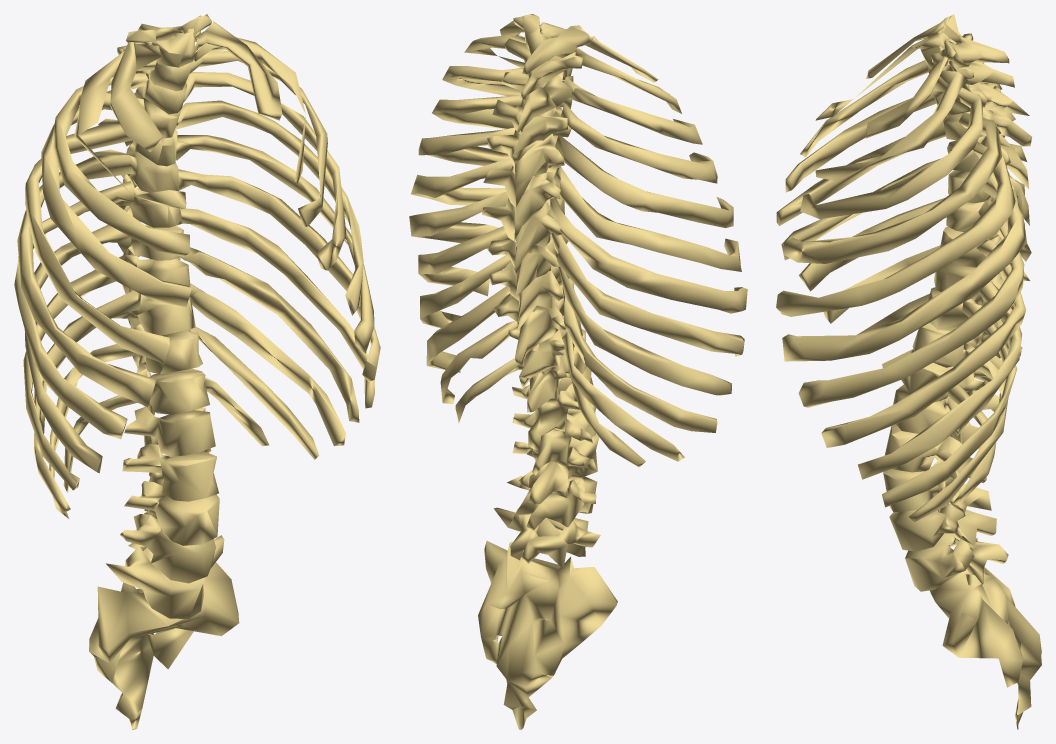
File: spine-trunk-QSAWFNBA.glb
3 views of the same model, side by side, from view 1: azimuth 30°, elevation 25°; view 2: azimuth 150°, elevation 25°; view 3: azimuth 270°, elevation 25° (orthographic). The views are drawn at different scales.
Visible parts, largest first — view 1: spine-trunk:sacrum:isa:FJ3393, spine-trunk:sixth-rib:isa:FJ3344, spine-trunk:fifth-rib:isa:FJ3342, spine-trunk:fourth-rib:isa:FJ3340, spine-trunk:third-rib:isa:FJ3338, spine-trunk:eighth-rib:isa:FJ3235, spine-trunk:seventh-rib:isa:FJ3346, spine-trunk:ninth-rib:isa:FJ3236, spine-trunk:seventh-rib:isa:FJ3234, spine-trunk:fifth-rib:isa:FJ3232, spine-trunk:tenth-rib:isa:FJ3225, spine-trunk:sixth-rib:isa:FJ3233 (+30 smaller); view 2: spine-trunk:sacrum:isa:FJ3393, spine-trunk:seventh-rib:isa:FJ3346, spine-trunk:eighth-rib:isa:FJ3347, spine-trunk:sixth-rib:isa:FJ3344, spine-trunk:fifth-rib:isa:FJ3342, spine-trunk:ninth-rib:isa:FJ3348, spine-trunk:tenth-rib:isa:FJ3330, spine-trunk:fifth-lumbar-vertebra:isa:FJ3168, spine-trunk:fourth-rib:isa:FJ3340, spine-trunk:third-lumbar-vertebra:isa:FJ3162, spine-trunk:fourth-lumbar-vertebra:isa:FJ3165, spine-trunk:seventh-rib:isa:FJ3234 (+29 smaller); view 3: spine-trunk:sacrum:isa:FJ3393, spine-trunk:sixth-rib:isa:FJ3233, spine-trunk:fifth-rib:isa:FJ3232, spine-trunk:seventh-rib:isa:FJ3234, spine-trunk:fourth-rib:isa:FJ3231, spine-trunk:eighth-rib:isa:FJ3235, spine-trunk:third-rib:isa:FJ3230, spine-trunk:ninth-rib:isa:FJ3236, spine-trunk:fifth-lumbar-vertebra:isa:FJ3168, spine-trunk:fourth-lumbar-vertebra:isa:FJ3165, spine-trunk:tenth-rib:isa:FJ3225, spine-trunk:second-rib:isa:FJ3229 (+27 smaller).
Part boxes in pixels (box(x1,y1,x2,y2)): spine-trunk:sacrum:isa:FJ3393: box(89, 562, 239, 729); spine-trunk:sixth-rib:isa:FJ3344: box(17, 155, 155, 406); spine-trunk:fifth-rib:isa:FJ3342: box(25, 124, 169, 363); spine-trunk:fourth-rib:isa:FJ3340: box(41, 93, 191, 306); spine-trunk:third-rib:isa:FJ3338: box(51, 73, 189, 256); spine-trunk:eighth-rib:isa:FJ3235: box(177, 208, 374, 408); spine-trunk:seventh-rib:isa:FJ3346: box(14, 181, 134, 439); spine-trunk:ninth-rib:isa:FJ3236: box(181, 247, 359, 422); spine-trunk:seventh-rib:isa:FJ3234: box(178, 169, 380, 381); spine-trunk:fifth-rib:isa:FJ3232: box(175, 100, 363, 315); spine-trunk:tenth-rib:isa:FJ3225: box(189, 283, 345, 446); spine-trunk:sixth-rib:isa:FJ3233: box(176, 135, 374, 353); spine-trunk:sacrum:isa:FJ3393: box(478, 541, 617, 729); spine-trunk:seventh-rib:isa:FJ3346: box(550, 198, 747, 313); spine-trunk:eighth-rib:isa:FJ3347: box(551, 233, 744, 356); spine-trunk:sixth-rib:isa:FJ3344: box(553, 167, 741, 271); spine-trunk:fifth-rib:isa:FJ3342: box(555, 134, 733, 227); spine-trunk:ninth-rib:isa:FJ3348: box(558, 267, 731, 395); spine-trunk:tenth-rib:isa:FJ3330: box(562, 287, 717, 432); spine-trunk:fifth-lumbar-vertebra:isa:FJ3168: box(493, 507, 600, 568); spine-trunk:fourth-rib:isa:FJ3340: box(560, 103, 717, 183); spine-trunk:third-lumbar-vertebra:isa:FJ3162: box(512, 434, 599, 503); spine-trunk:fourth-lumbar-vertebra:isa:FJ3165: box(507, 470, 597, 530); spine-trunk:seventh-rib:isa:FJ3234: box(409, 191, 508, 254); spine-trunk:sacrum:isa:FJ3393: box(929, 537, 1041, 729); spine-trunk:sixth-rib:isa:FJ3233: box(782, 176, 1026, 361); spine-trunk:fifth-rib:isa:FJ3232: box(776, 141, 1015, 316); spine-trunk:seventh-rib:isa:FJ3234: box(798, 200, 1024, 407); spine-trunk:fourth-rib:isa:FJ3231: box(783, 112, 1001, 263); spine-trunk:eighth-rib:isa:FJ3235: box(821, 240, 1025, 447); spine-trunk:third-rib:isa:FJ3230: box(800, 87, 982, 219); spine-trunk:ninth-rib:isa:FJ3236: box(858, 281, 1022, 479); spine-trunk:fifth-lumbar-vertebra:isa:FJ3168: box(905, 533, 1008, 591); spine-trunk:fourth-lumbar-vertebra:isa:FJ3165: box(889, 504, 996, 551); spine-trunk:tenth-rib:isa:FJ3225: box(882, 301, 1017, 507); spine-trunk:second-rib:isa:FJ3229: box(815, 70, 966, 180).
Size of the model in its own units: 0.2703 by 0.5937 by 0.2046.
